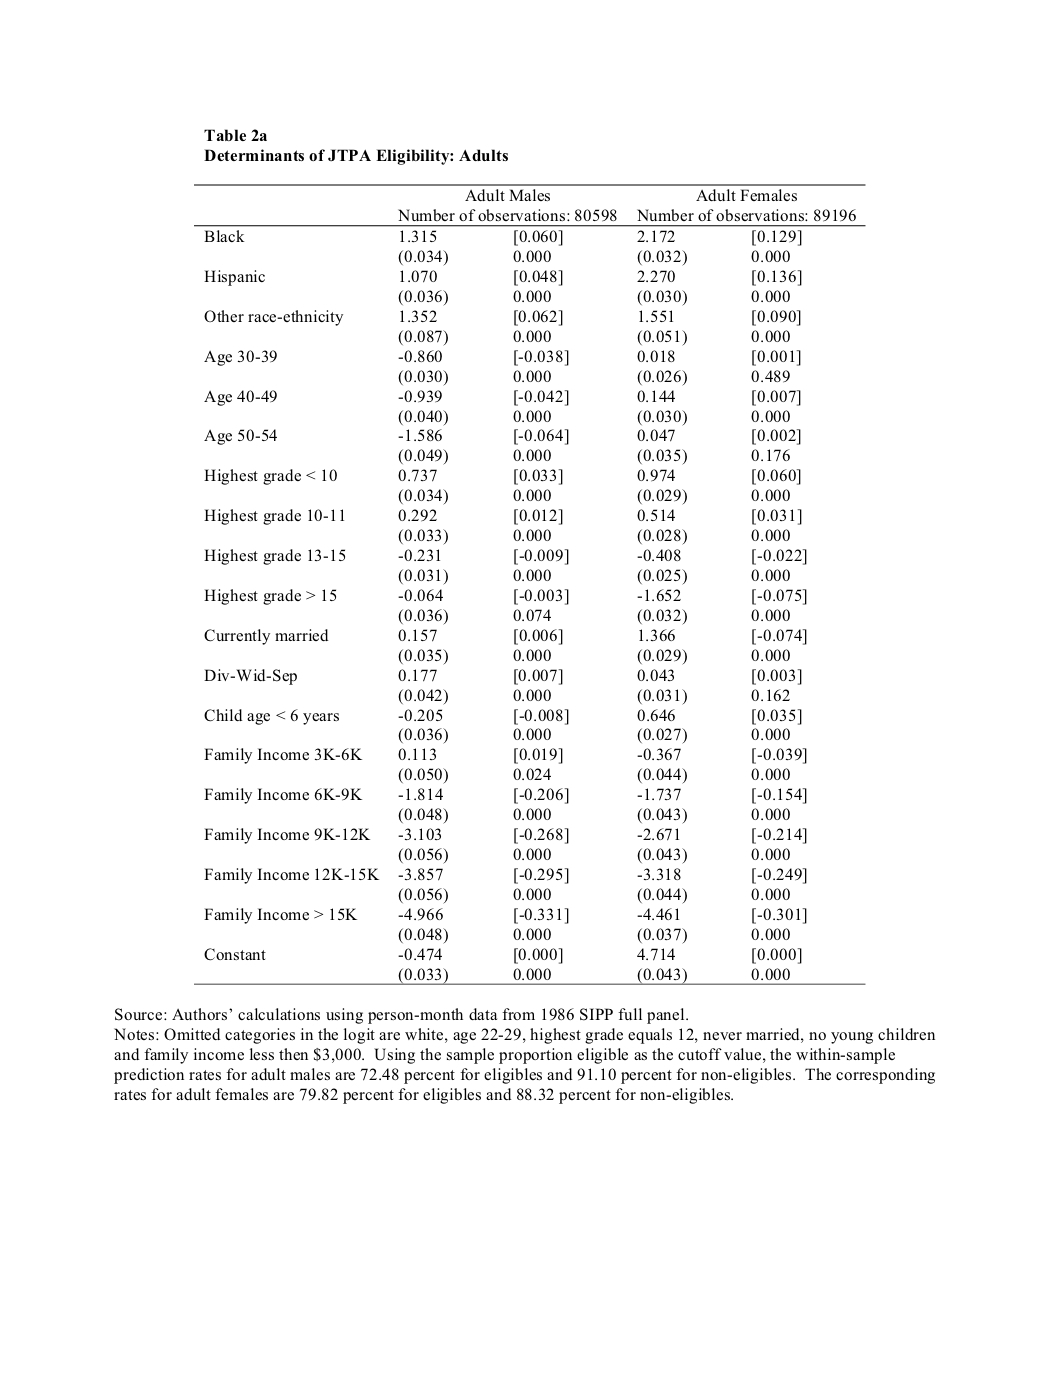Table: (194, 184, 865, 984)
